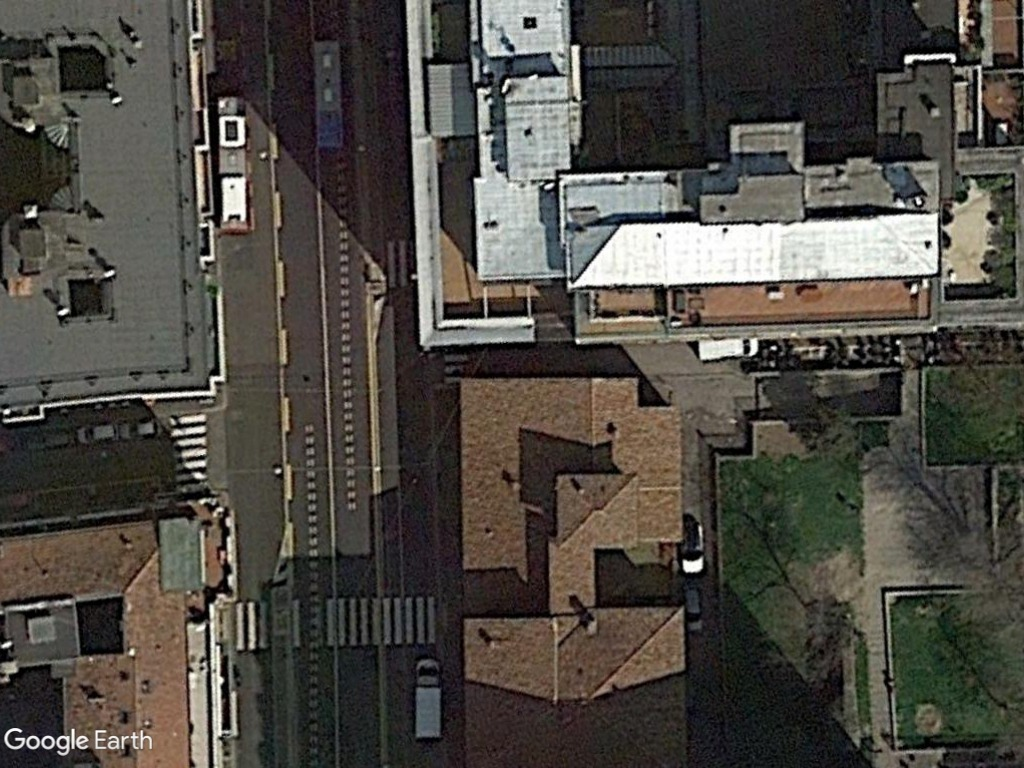bus: (209, 91, 259, 239), (304, 34, 353, 158)
truck: (406, 653, 449, 742)
